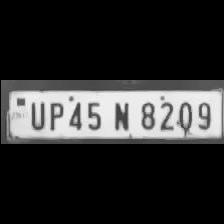0: (174, 100, 192, 132)
2: (156, 98, 174, 132)
4: (64, 98, 82, 132)
5: (82, 98, 104, 132)
8: (134, 99, 156, 131)
9: (194, 99, 214, 131)
N: (106, 98, 132, 132)
P: (43, 99, 63, 131)
U: (25, 99, 45, 130)
